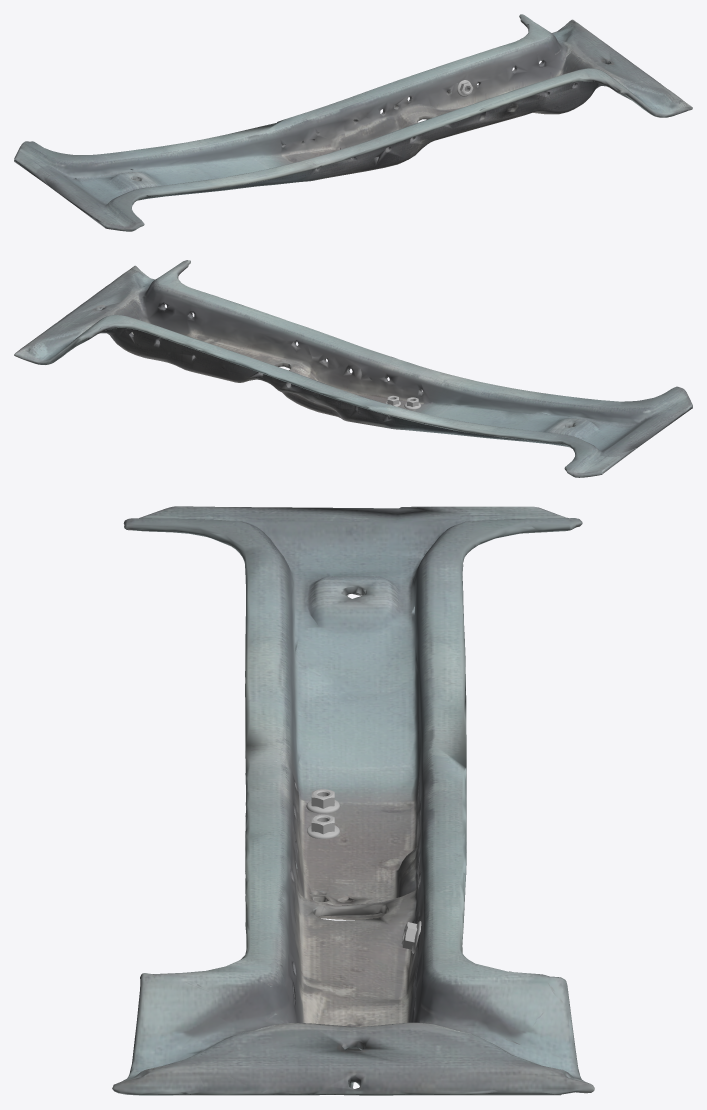
The picture shows the model from 3 angles, top to bottom: view 1: azimuth 30°, elevation 25°; view 2: azimuth 150°, elevation 25°; view 3: azimuth 270°, elevation 25°; orthographic projection. The views are drawn at different scales.
Visible parts, largest first — view 1: PecaPrincipal; view 2: PecaPrincipal; view 3: PecaPrincipal.
Boxes of the visible parts, x1=… form: PecaPrincipal: x1=14, y1=14, x2=692, y2=231; PecaPrincipal: x1=14, y1=260, x2=692, y2=477; PecaPrincipal: x1=112, y1=506, x2=594, y2=1095.
Size of the model in its own units: 1.9 by 0.1879 by 0.6906.
4 materials, 1 textured.
